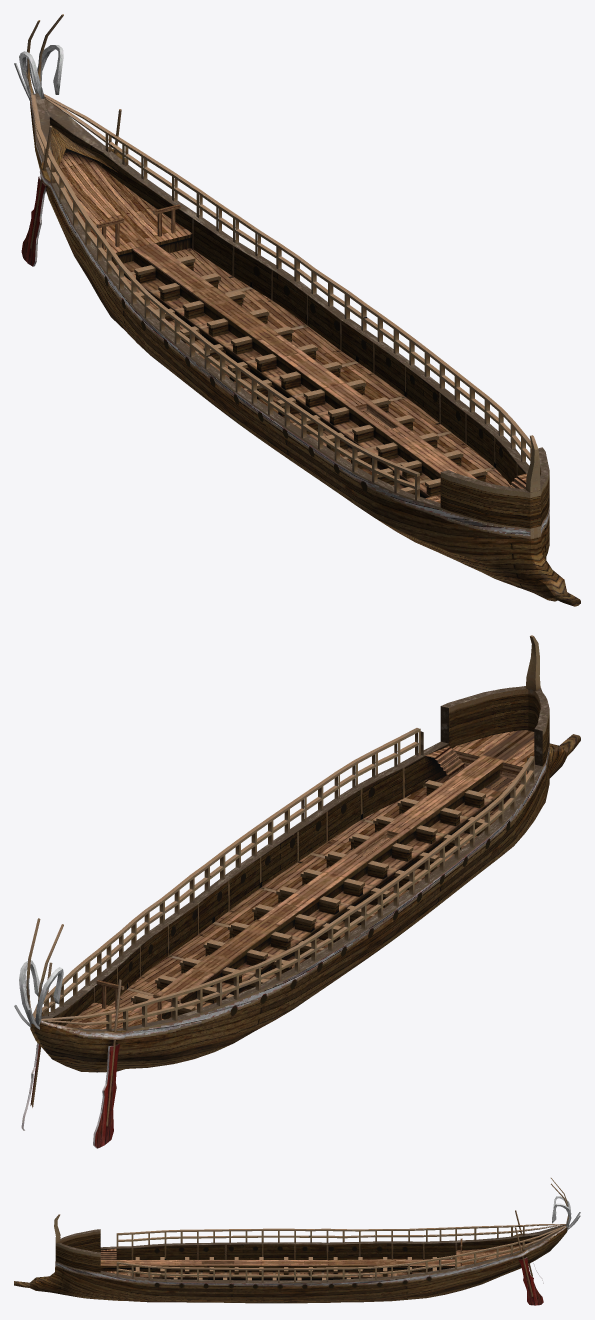
Rendered from pers_bireme.glb.
3 views of the same model, one above another, from view 1: azimuth 30°, elevation 25°; view 2: azimuth 150°, elevation 25°; view 3: azimuth 270°, elevation 25° (orthographic). The views are drawn at different scales.
Bounding box in the file's own units: 6.94 × 9.4 × 41.23.
1 material, 1 textured.
